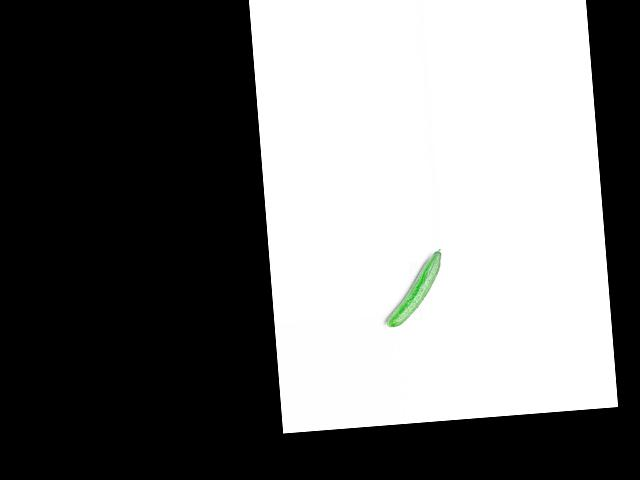cucumber: (380, 247, 446, 327)
